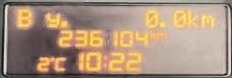-: (59, 20, 66, 26), (158, 20, 164, 27)
0: (83, 51, 101, 70), (143, 9, 158, 27), (171, 9, 186, 27), (117, 30, 132, 47)
1: (77, 52, 83, 69), (112, 31, 117, 46)
2: (124, 51, 141, 70), (107, 51, 124, 70), (57, 29, 72, 46), (35, 56, 49, 70)
3: (73, 30, 88, 47)
4: (133, 30, 148, 47)
6: (88, 30, 103, 47)
X: (15, 7, 32, 27), (199, 13, 215, 28), (186, 9, 199, 27), (44, 12, 59, 27), (53, 56, 64, 70), (100, 54, 107, 67), (155, 31, 166, 39), (148, 31, 156, 39)
